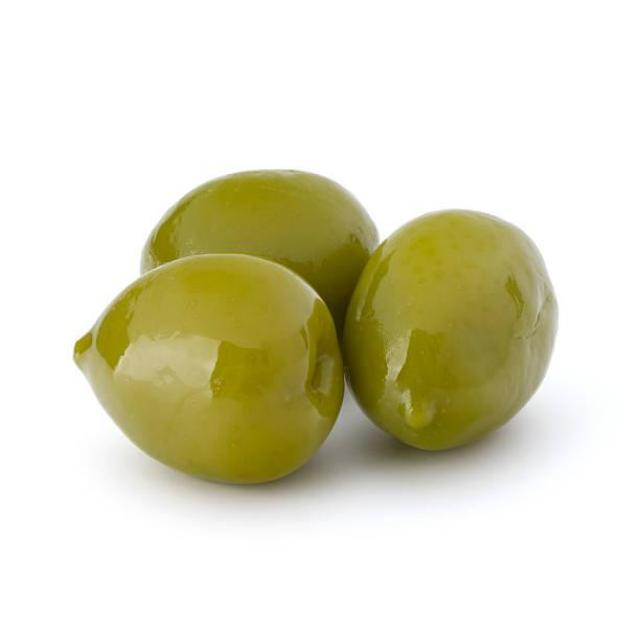Healthy: (75, 255, 343, 482), (344, 211, 557, 450), (142, 171, 378, 314)
